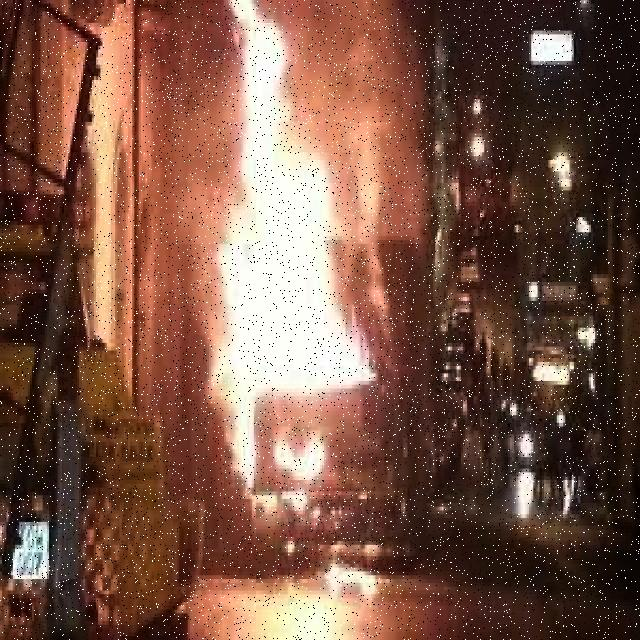fire: (170, 4, 396, 543)
